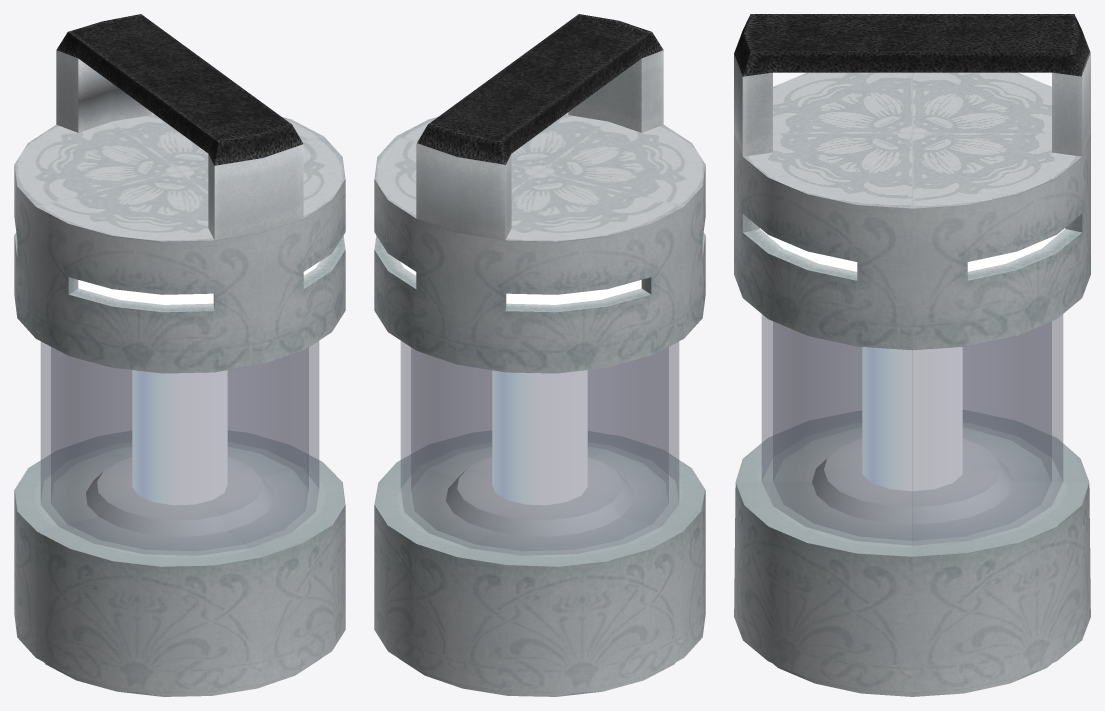
Rendered from Lantern 1.fbx.
3 views of the same model, side by side, from view 1: azimuth 30°, elevation 25°; view 2: azimuth 150°, elevation 25°; view 3: azimuth 270°, elevation 25° (orthographic). The views are drawn at different scales.
Parts seen in each view (by area): view 1: Lantern; view 2: Lantern; view 3: Lantern.
Part boxes in pixels (<box>): Lantern: <box>14,14,345,696</box>; Lantern: <box>374,14,705,696</box>; Lantern: <box>734,14,1090,696</box>.
Bounding box in the file's own units: 15.61 × 28.65 × 15.61.
4 materials, 1 textured.
